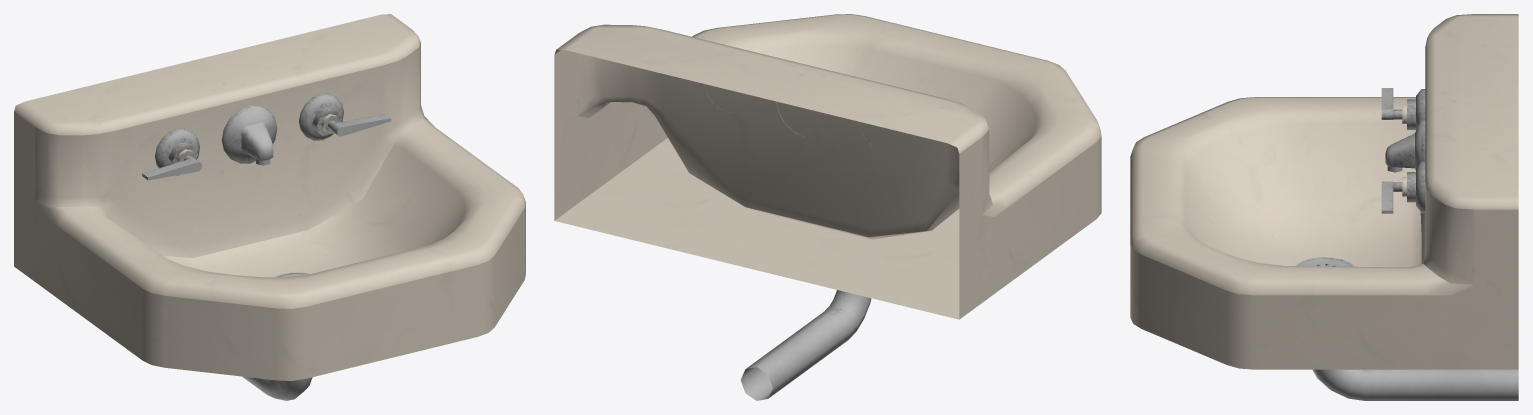
File: Sink.FBX
The picture shows the model from 3 angles, left to right: view 1: azimuth 30°, elevation 25°; view 2: azimuth 150°, elevation 25°; view 3: azimuth 270°, elevation 25°; orthographic projection. The views are drawn at different scales.
Parts seen in each view (by area): view 1: Sink; view 2: Sink; view 3: Sink.
Part boxes in pixels (bbox=[...]): Sink: bbox=[14, 14, 525, 400]; Sink: bbox=[554, 14, 1101, 400]; Sink: bbox=[1130, 14, 1518, 400].
Bounding box in the file's own units: 50 × 35.9 × 43.
